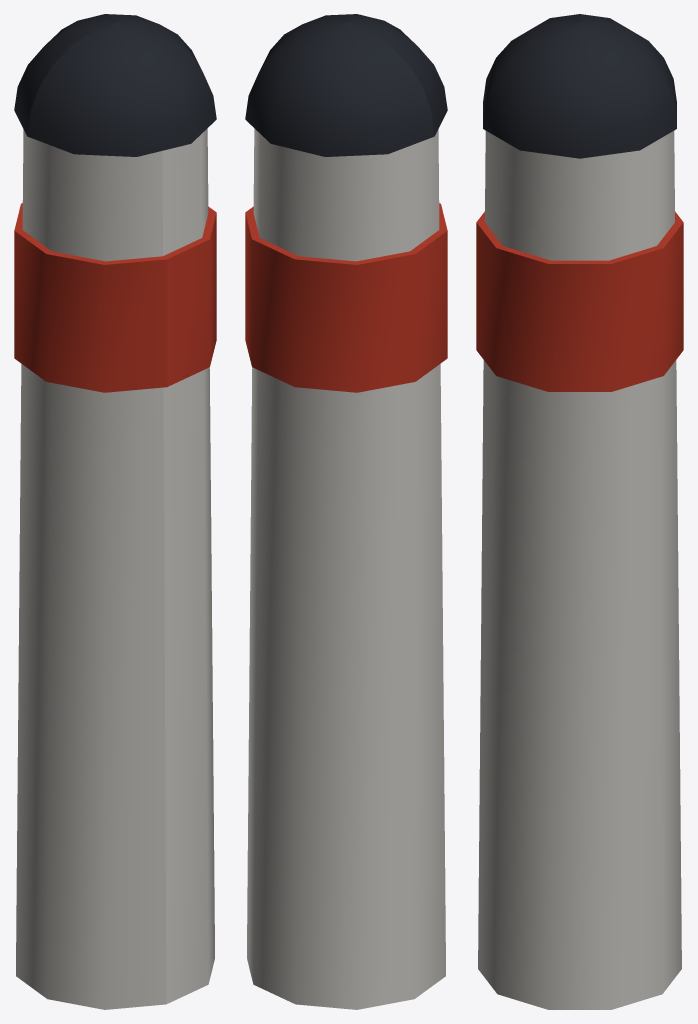
Rendered from road-post.glb.
3 views of the same model, side by side, from view 1: azimuth 30°, elevation 25°; view 2: azimuth 150°, elevation 25°; view 3: azimuth 270°, elevation 25° (orthographic).
Visible parts, largest first — view 1: RoadPost; view 2: RoadPost; view 3: RoadPost.
Part boxes in pixels (x1,y1,x2,y2): RoadPost: (14, 14, 216, 1009); RoadPost: (245, 14, 447, 1009); RoadPost: (476, 14, 683, 1009).
Size of the model in its own units: 0.13 by 0.665 by 0.132.
